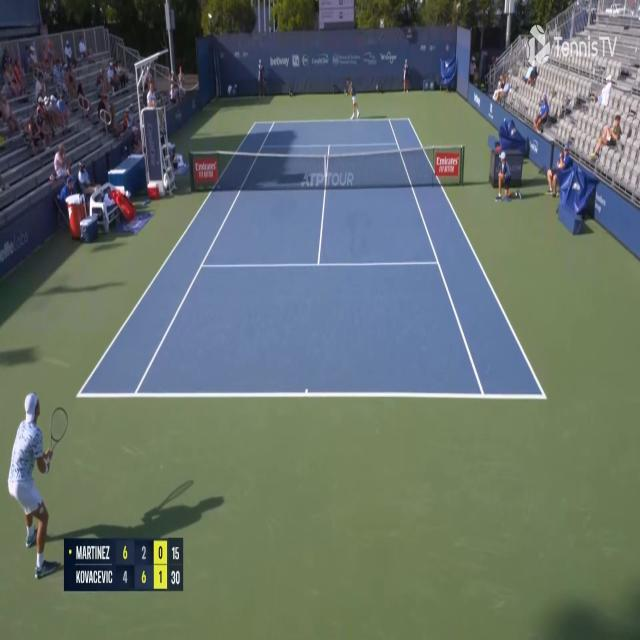tennis-player: (8, 388, 70, 583), (341, 76, 360, 121)
